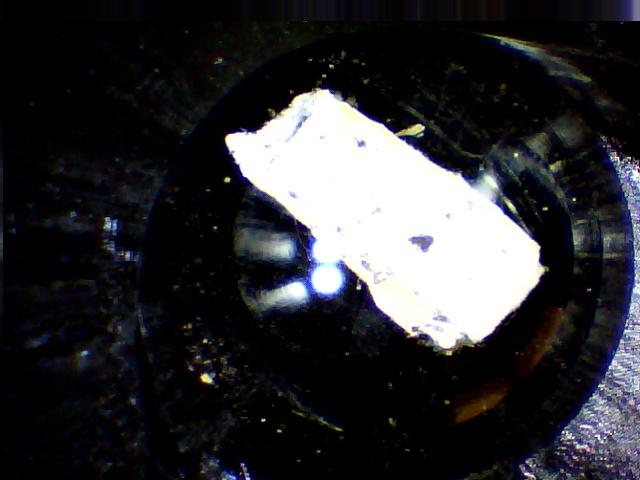megot: (220, 79, 555, 357)
